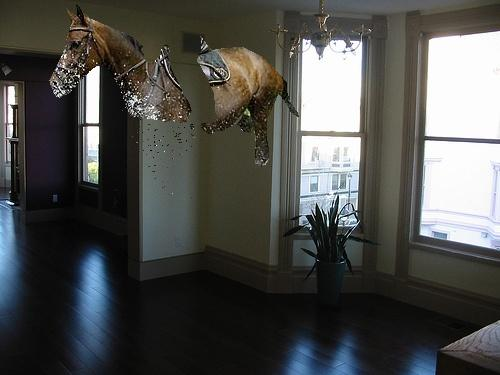tampered: (50, 5, 299, 199)
